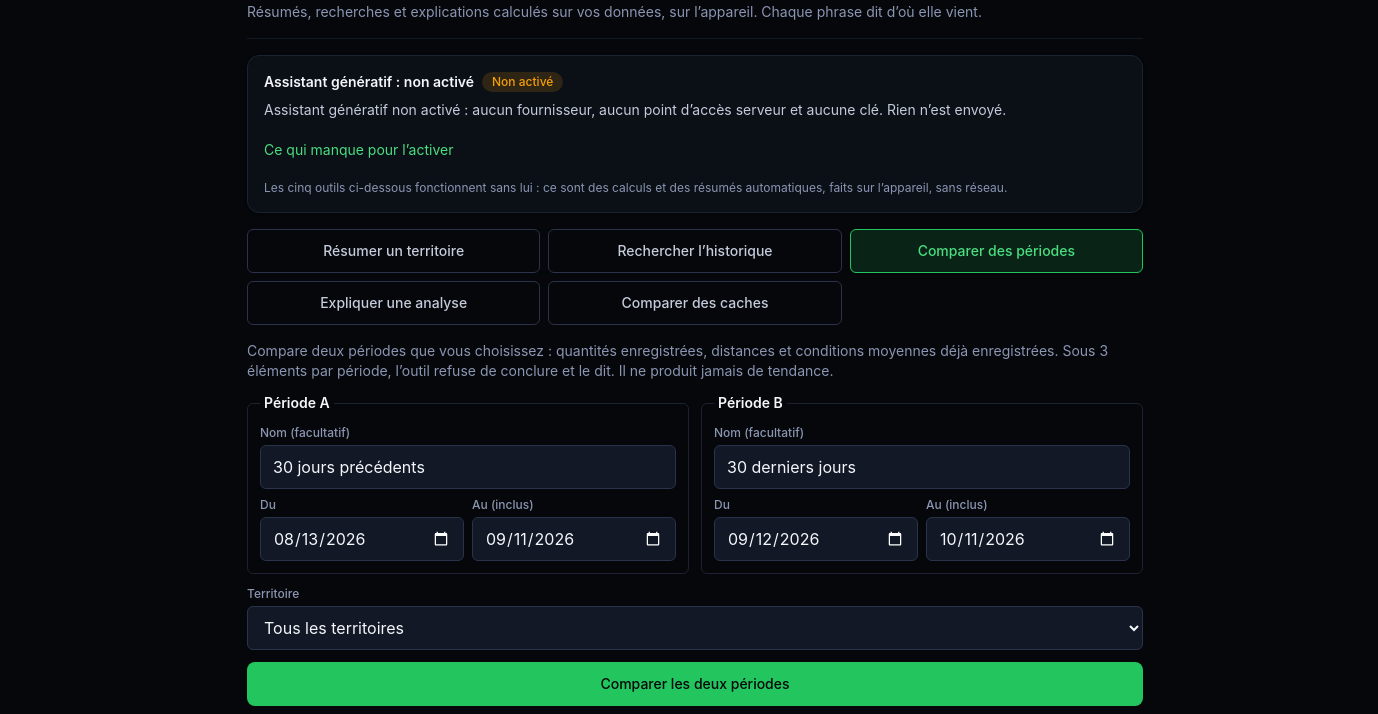
Test case: AssistantPage — comparaison de périodes › refuse de conclure quand les périodes n’ont pas assez de données
Click the button "Comparer les deux périodes": point(695, 684) [247, 662, 1143, 706]
(page scrolled)
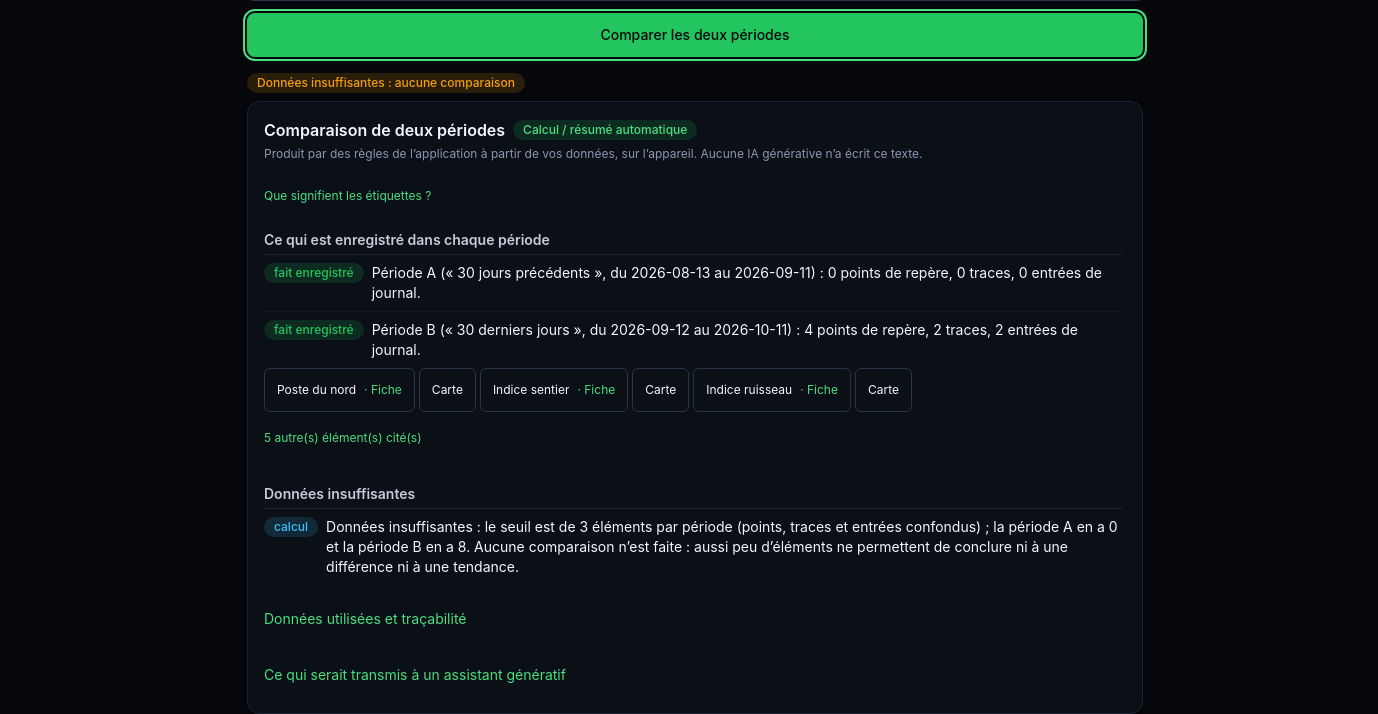
Expected: the text with test id "periods-status" reads "Données insuffisantes : aucune comparaison", [257, 75, 515, 90]
Expected: the text "le seuil est de 3 éléments par période" is shown, [326, 518, 1118, 575]
